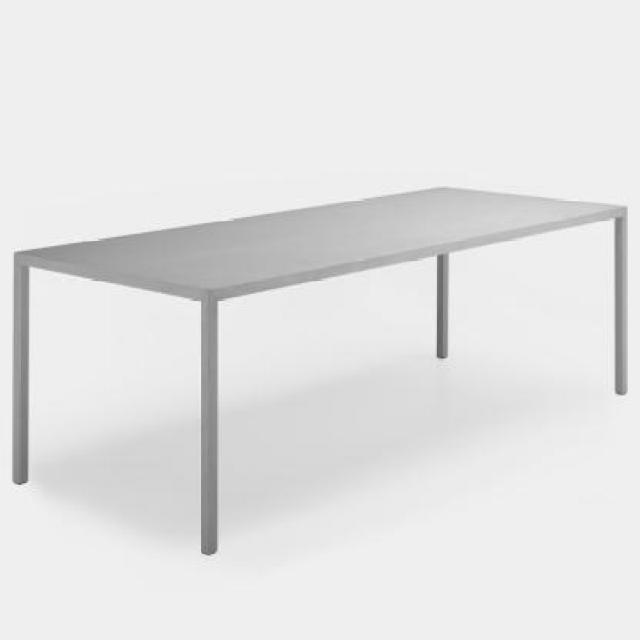table: (11, 182, 631, 556)
